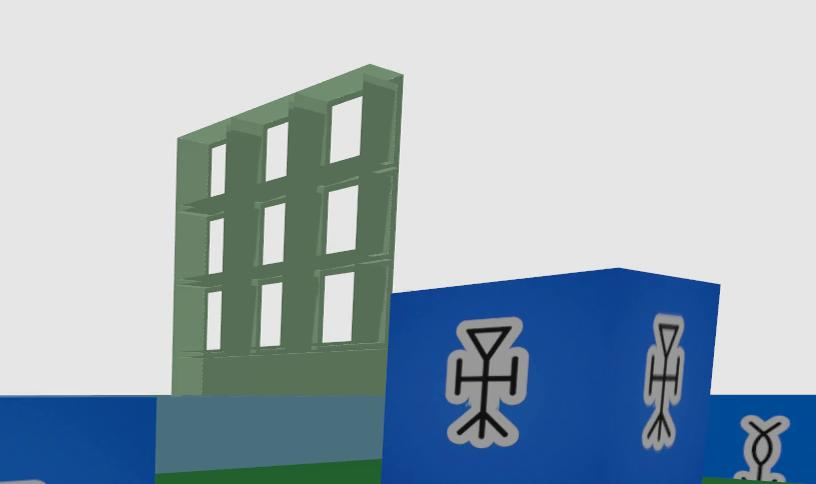KFS_REAL: (380, 268, 720, 484), (0, 398, 155, 484), (445, 317, 527, 448), (705, 395, 815, 484), (642, 313, 684, 450), (733, 415, 789, 482), (0, 480, 45, 484)
